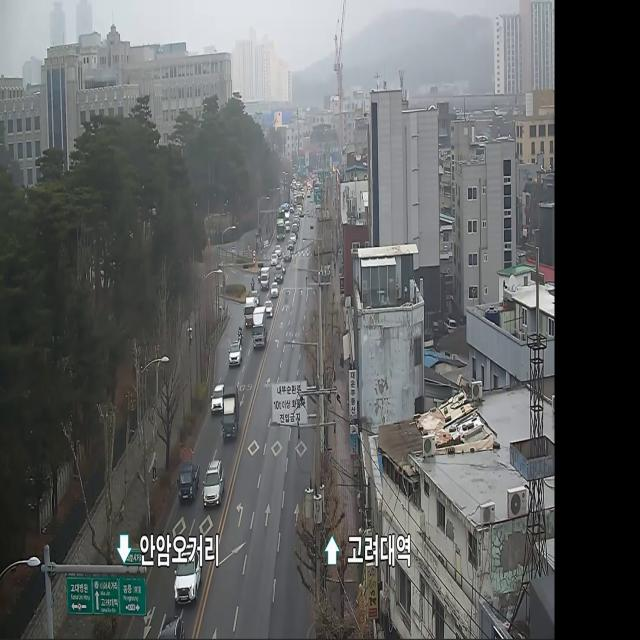bus: (236, 324, 243, 346)
motorcycle: (171, 533, 204, 610), (202, 453, 226, 512), (211, 374, 224, 420), (226, 336, 242, 372)
truck: (175, 448, 201, 509), (220, 380, 240, 447)
